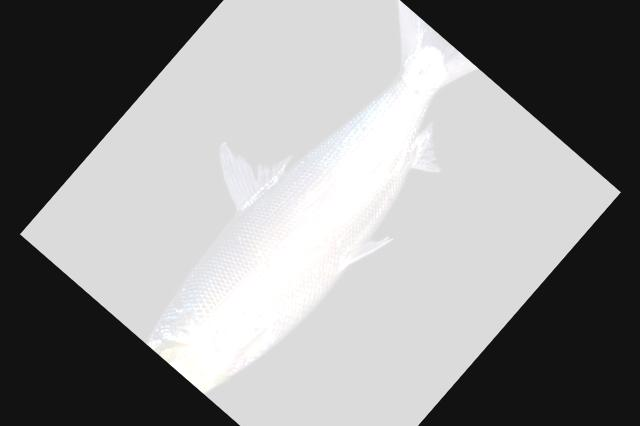Healthy Fish: (147, 0, 478, 394)
